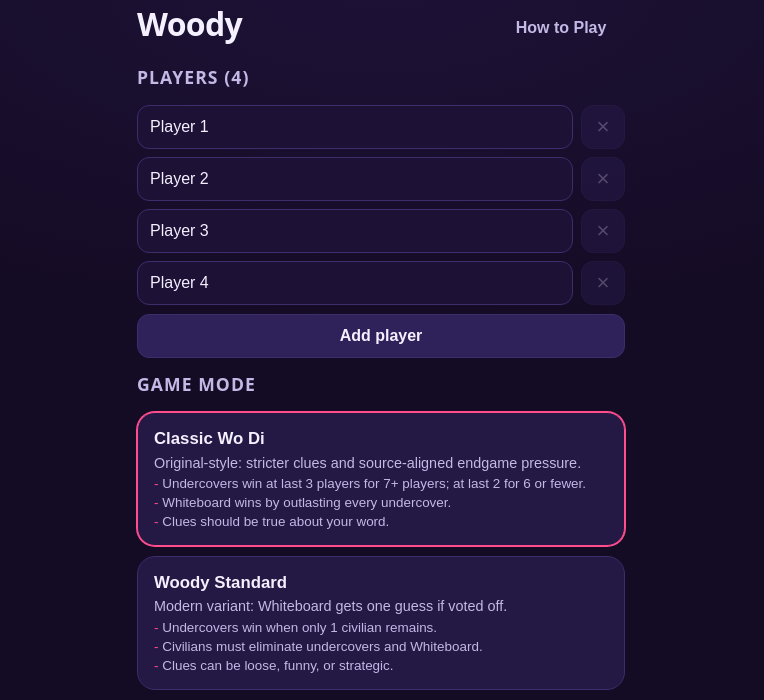
SetupScreen › updates the rule summary when the preset changes
The image size is (764, 700).
Click the radio button labelled "Woody Standard" at (381, 623), box [137,556,625,690]
(page scrolled)
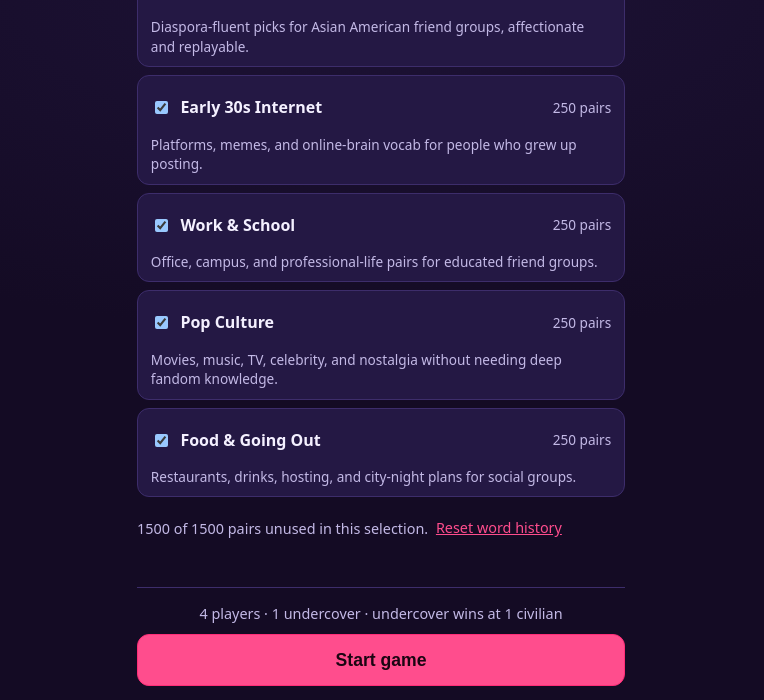
Expected: the text with test id "setup-summary" shows "at 1 civilian", [200,604,563,623]
